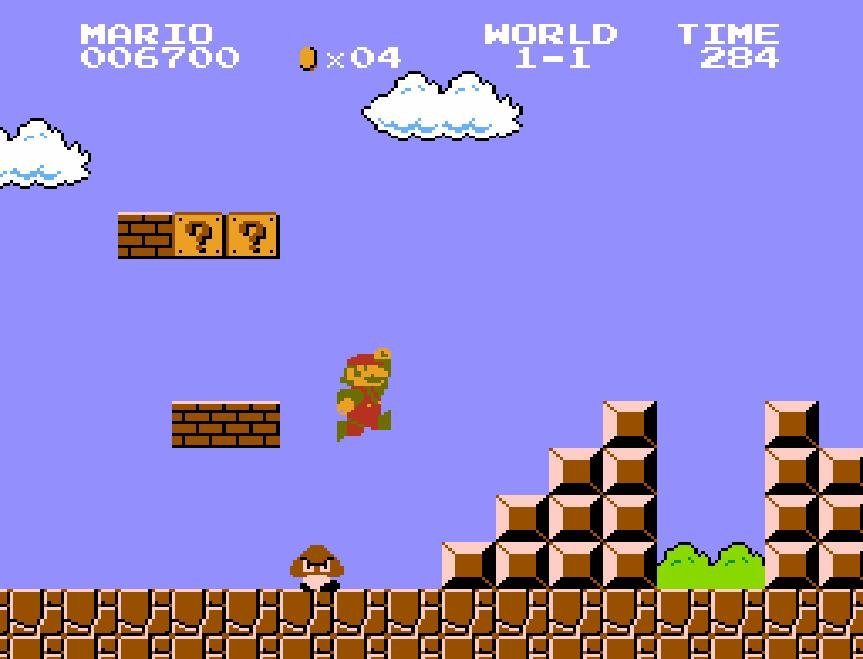big_mario: (335, 346, 393, 444)
